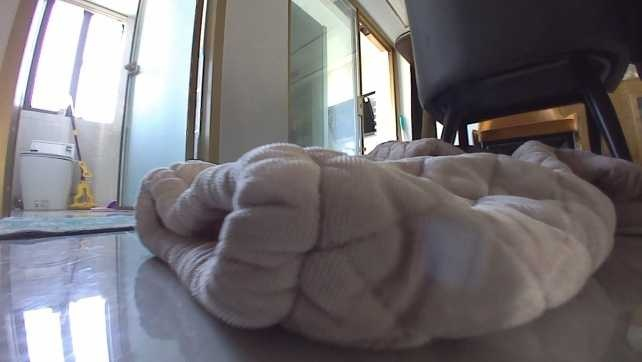blanket: (0, 213, 136, 237)
door_anno: (115, 0, 222, 208)
toilet: (18, 138, 77, 211)
